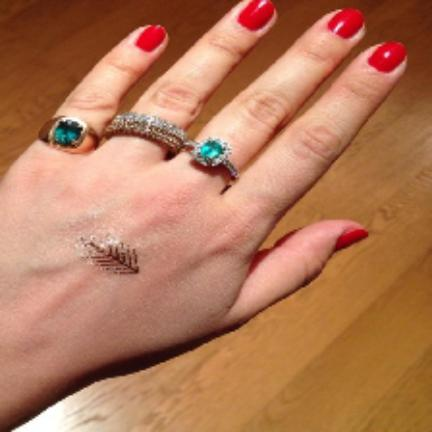Nail: (368, 41, 407, 73), (327, 8, 364, 39), (238, 0, 274, 30), (136, 24, 166, 52), (335, 229, 369, 251)
